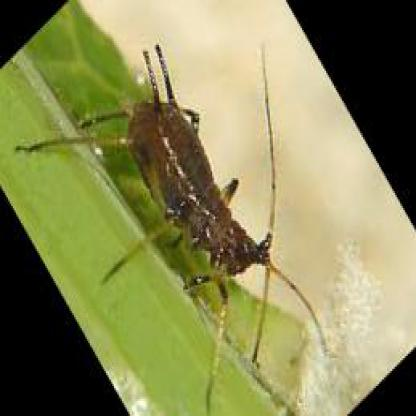uroleucon compositae: (26, 44, 278, 403)
